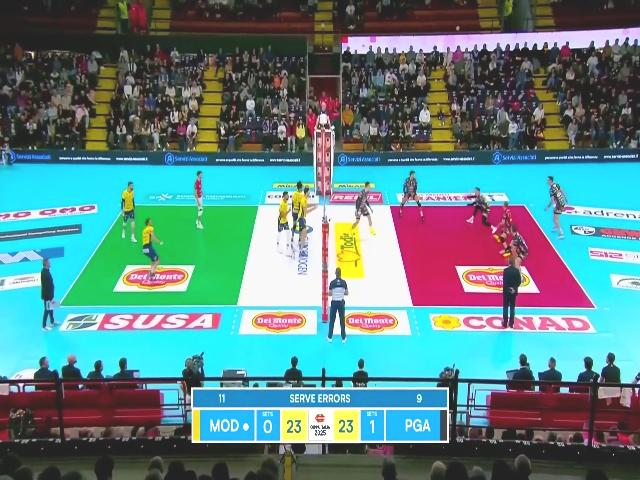volleyball court: (58, 202, 596, 308)
